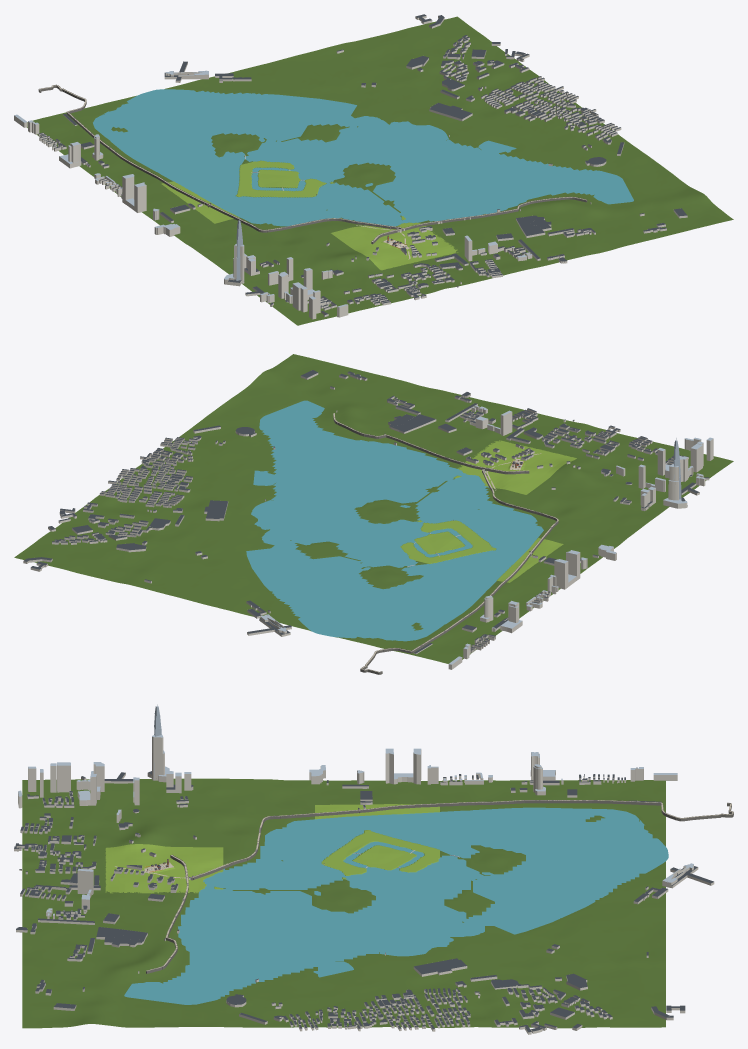
File: static.glb
3 views of the same model, one above another, from view 1: azimuth 30°, elevation 25°; view 2: azimuth 150°, elevation 25°; view 3: azimuth 270°, elevation 25° (orthographic). The views are drawn at different scales.
Parts seen in each view (by area): view 1: Ground, Water, City, Temple, Walls; view 2: Ground, Water, City, Temple, Walls; view 3: Ground, Water, City, Temple, Walls.
Part boxes in pixels (x1,y1,x2,y2): Ground: [27, 16, 733, 325]; Water: [93, 89, 633, 247]; City: [14, 16, 687, 319]; Temple: [39, 14, 687, 314]; Walls: [38, 84, 587, 244]; Ground: [14, 354, 733, 672]; Water: [246, 400, 543, 641]; City: [23, 372, 713, 669]; Temple: [24, 370, 709, 653]; Walls: [333, 413, 558, 674]; Ground: [22, 778, 733, 1028]; Water: [124, 807, 668, 1004]; City: [14, 704, 714, 1034]; Temple: [14, 771, 713, 1032]; Walls: [146, 800, 733, 973].
Bounding box in the file's own units: 3388 × 469 × 3919.
